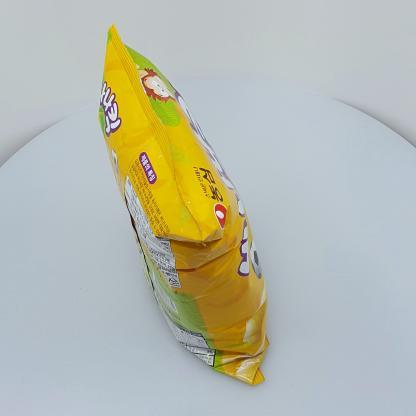Plastic Packaging: (90, 16, 294, 400)
